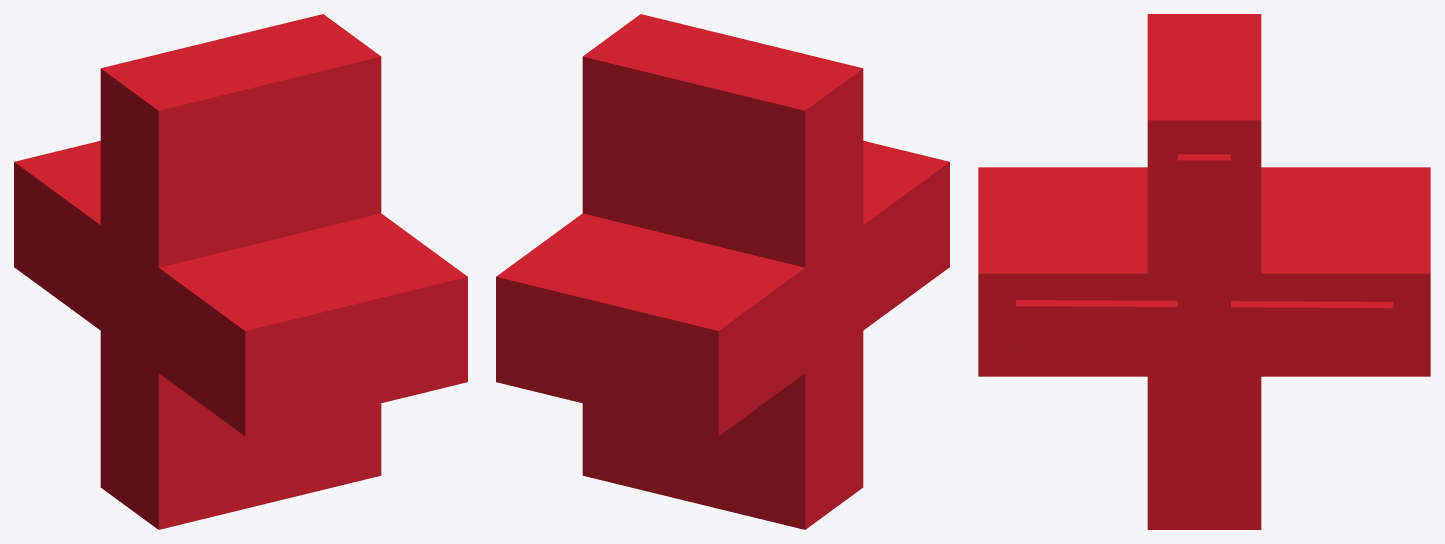
Rendered from HealthPowerUp.fbx.
The picture shows the model from 3 angles, left to right: view 1: azimuth 30°, elevation 25°; view 2: azimuth 150°, elevation 25°; view 3: azimuth 270°, elevation 25°; orthographic projection. The views are drawn at different scales.
Visible parts, largest first — view 1: Cube.001, Cube; view 2: Cube.001, Cube; view 3: Cube, Cube.001, Cube.003, Cube.002.
Part boxes in pixels (x1,y1,x2,y2): Cube.001: (100, 14, 381, 529); Cube: (14, 141, 467, 436); Cube.001: (582, 14, 863, 529); Cube: (496, 141, 949, 436); Cube: (978, 167, 1430, 376); Cube.001: (1147, 14, 1261, 529); Cube.003: (1015, 300, 1393, 356); Cube.002: (1178, 154, 1230, 502).
Bounding box in the file's own units: 118 × 200 × 200.
